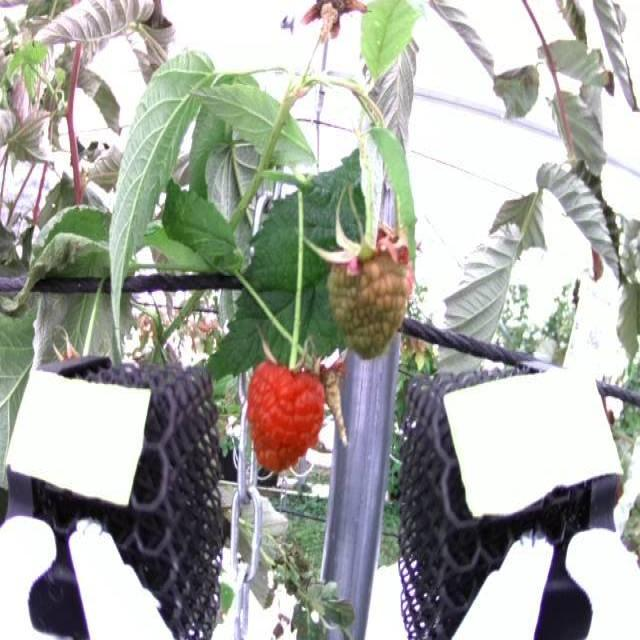Riped berries: (244, 356, 327, 473)
